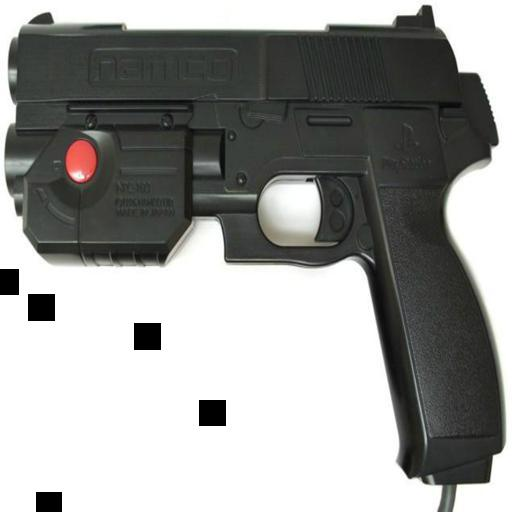Handgun: (8, 9, 504, 486)
